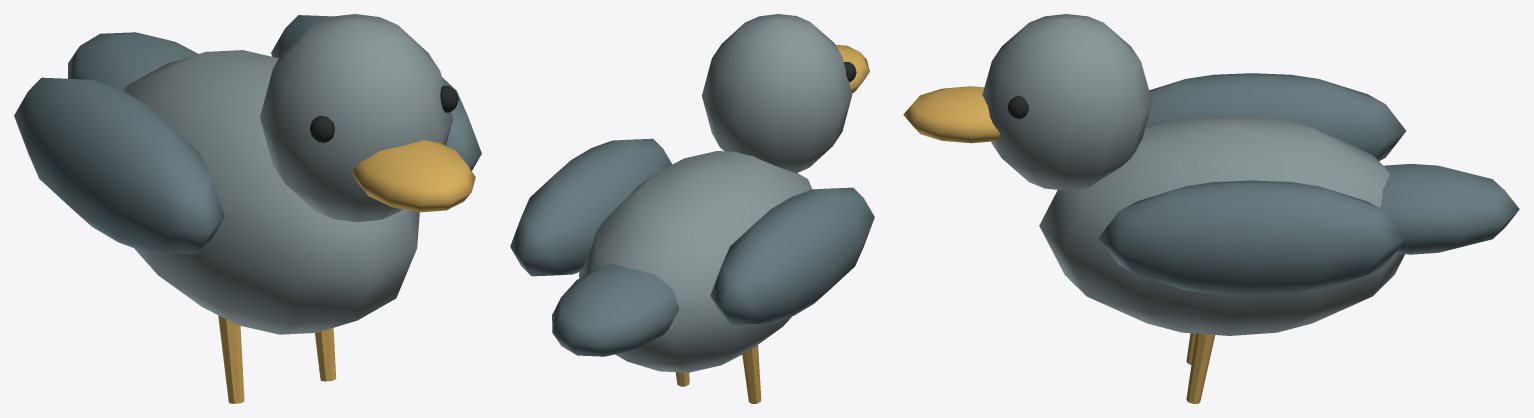
File: bird.glb
3 renders of one model, left to right at view 1: azimuth 30°, elevation 25°; view 2: azimuth 150°, elevation 25°; view 3: azimuth 270°, elevation 25°, orthographic. The views are drawn at different scales.
Parts seen in each view (by area): view 1: body, head, wing, beak, tail, wing.001, foot, foot.001, eye; view 2: body, head, wing, wing.001, tail, foot, beak; view 3: body, wing.001, head, wing, tail, beak, foot.001.
Boxes of the visible parts, x1,y1,x2,y2 form: body: (124,50,419,334); head: (260,14,453,222); wing: (14,77,224,254); beak: (351,140,475,212); tail: (68,32,197,91); wing.001: (271,15,481,170); foot: (218,315,244,403); foot.001: (315,328,336,381); eye: (309,116,334,142); body: (579,151,811,372); head: (702,14,852,173); wing: (710,187,874,325); wing.001: (510,138,672,276); tail: (552,263,679,356); foot: (742,345,761,403); beak: (835,44,869,93); body: (1039,115,1404,335); wing.001: (1098,180,1406,295); head: (982,14,1152,190); wing: (1145,73,1405,161); tail: (1380,164,1519,254); beak: (903,86,999,143); foot.001: (1186,333,1215,403).
Size of the model in its own units: 0.4 by 0.4413 by 0.68.
